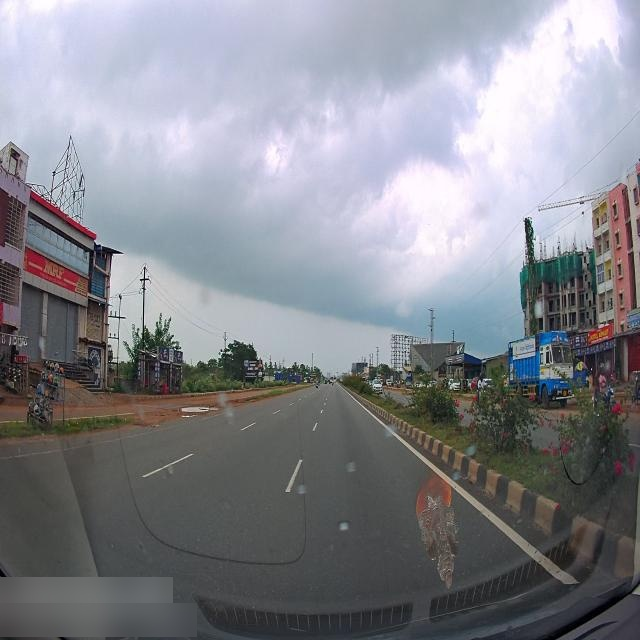pothole: (163, 399, 226, 418)
